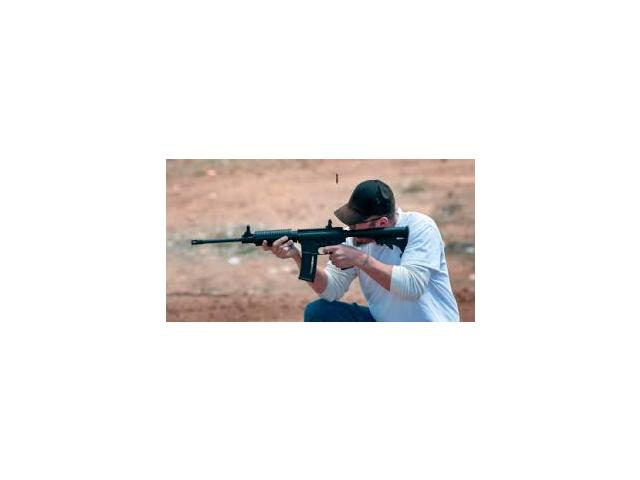rifle: (186, 223, 412, 284)
